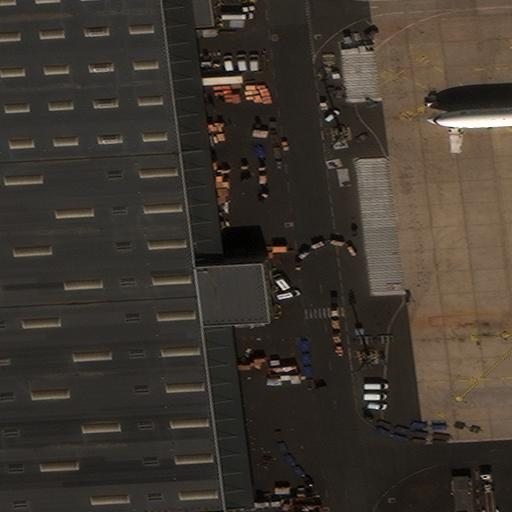Large Civil Transport: (427, 72, 511, 154)
